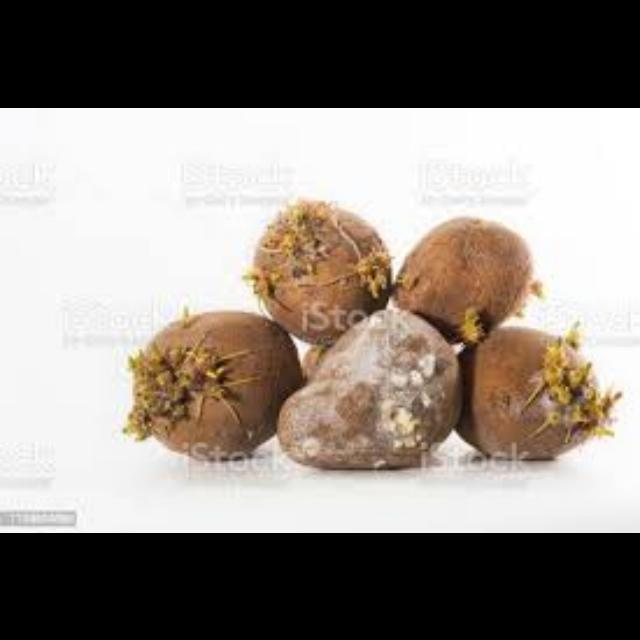Sprouted potato: (82, 290, 322, 472), (261, 290, 467, 488), (422, 300, 624, 474), (220, 168, 396, 356), (374, 202, 542, 360)
